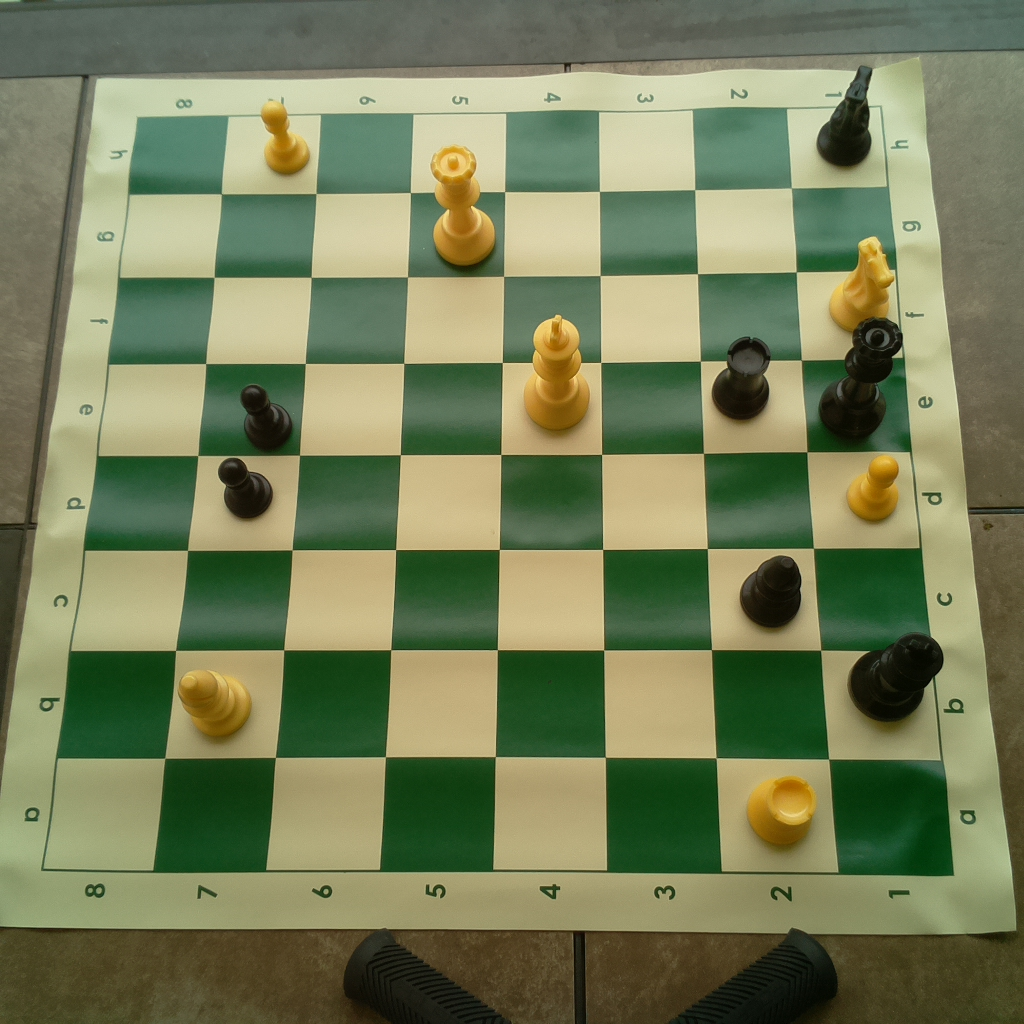black_bishop: (734, 553, 807, 631)
black_king: (845, 630, 947, 725)
black_knight: (816, 61, 876, 164)
black_pawn: (236, 380, 299, 452), (216, 454, 280, 519)
black_queen: (815, 310, 910, 440)
black_rook: (710, 334, 775, 421)
file_a: (38, 756, 953, 878)
file_b: (55, 652, 944, 758)
file_c: (68, 552, 936, 656)
file_d: (84, 451, 923, 551)
file_e: (101, 356, 908, 453)
file_f: (110, 274, 903, 358)
file_g: (119, 187, 898, 282)
file_h: (129, 109, 886, 190)
outline: (40, 105, 955, 877)
rank_1: (786, 104, 955, 875)
rank_2: (693, 105, 841, 869)
rank_3: (599, 110, 725, 873)
rank_4: (494, 110, 610, 871)
rank_5: (379, 114, 505, 871)
rank_6: (267, 113, 415, 874)
rank_7: (153, 115, 320, 874)
rank_8: (41, 117, 228, 871)
white_bishop: (167, 665, 258, 740)
white_king: (519, 308, 596, 435)
white_knight: (824, 232, 899, 338)
white_pawn: (842, 447, 906, 522), (259, 97, 315, 175)
white_queen: (425, 139, 499, 267)
white_rook: (746, 767, 820, 853)
